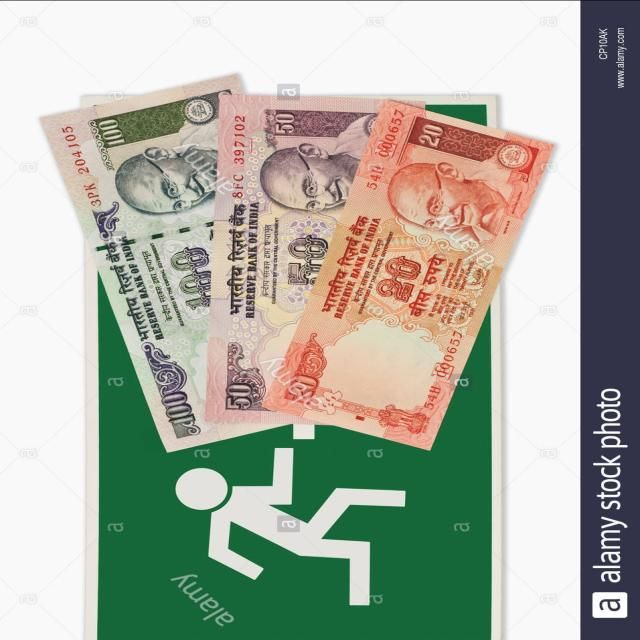20IndianRupees: (285, 106, 565, 452)
